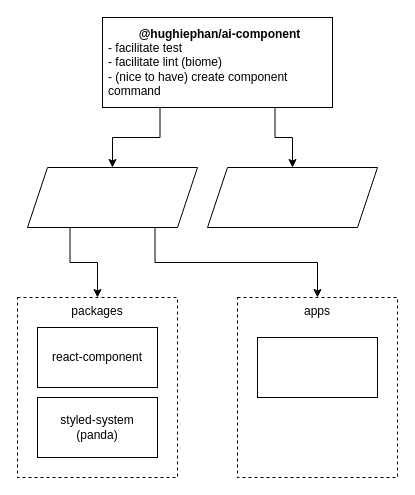
This 415x495 diagram has some shape labels left out. The shapes that lost their labels are listed below. From the top down, each one's centre as x and y in pixels, then its label:
At [112,197]: "pnpm-workspace - manage monorepo".
At [292,197]: "turbo - facilitate build".
At [317,367]: "react-storybook".
